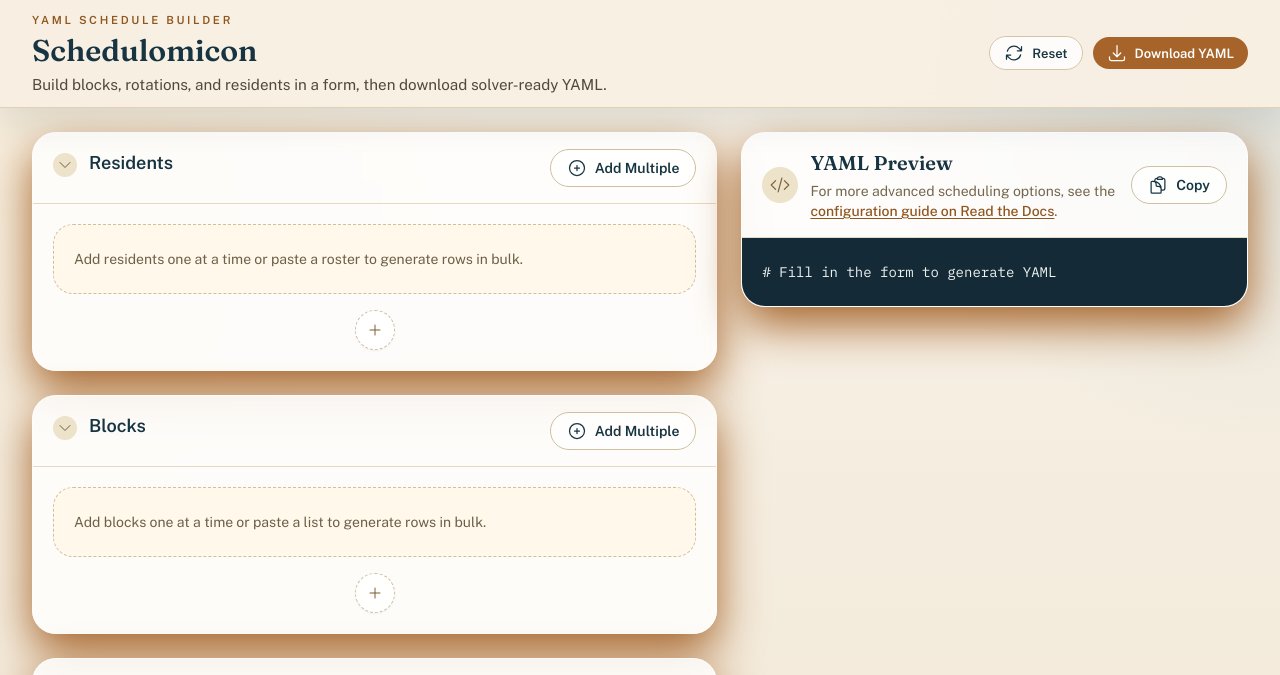
Test: App validation UI › shows the advanced docs link only when the YAML preview is clean
The image size is (1280, 675).
Check: the element "YAML Preview" is shown, box [741,132,1248,307]
Click the button named "add block": (375, 593) [355,573,395,613]
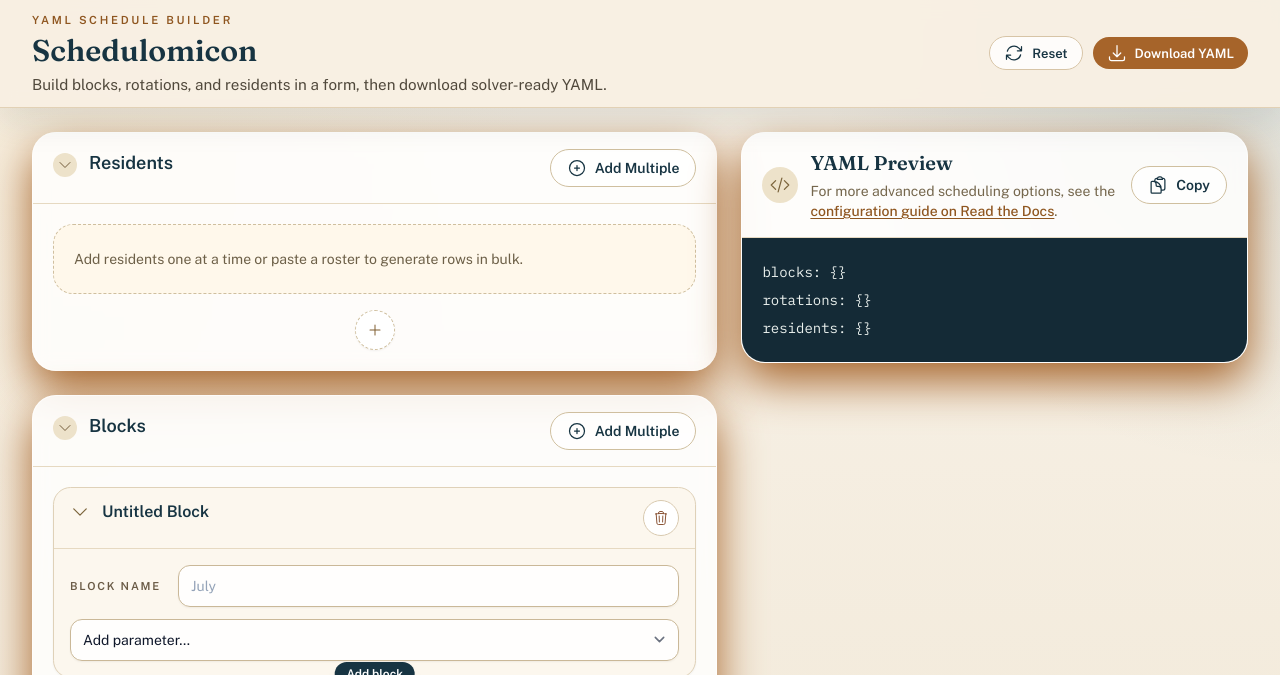
Select "Groups" in the dropdown: (375, 640) [70,619,679,661]
(page scrolled)
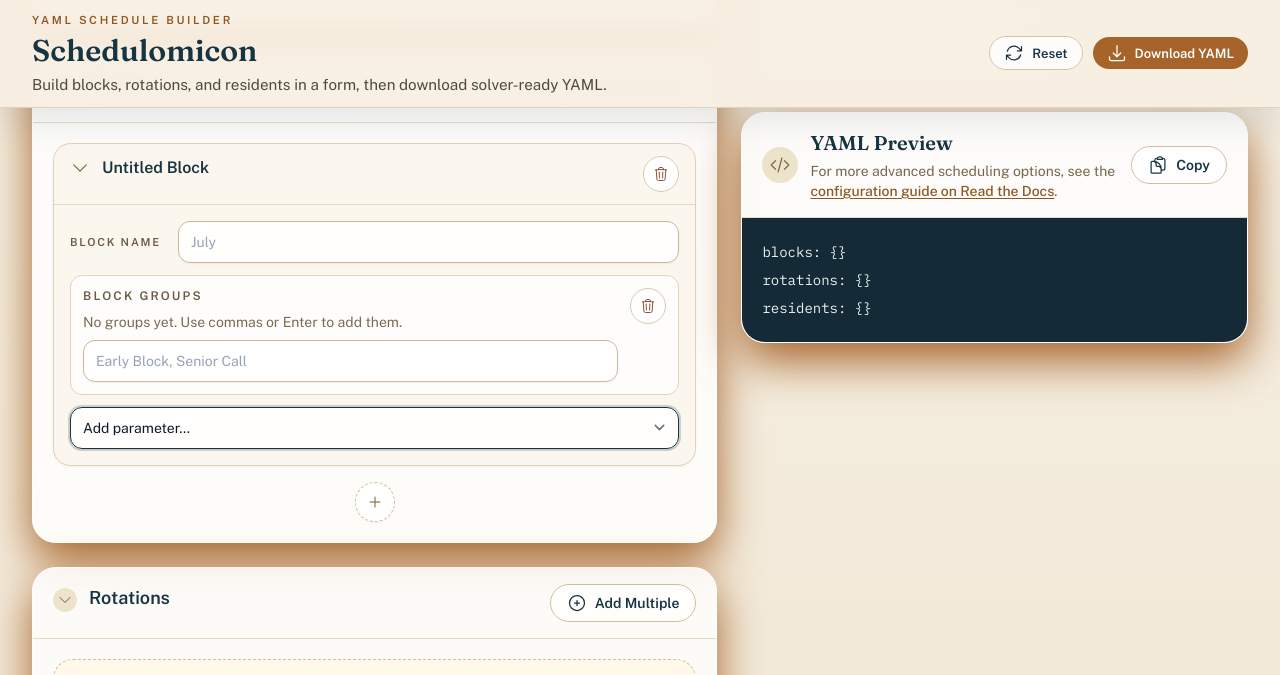
In the field with placeholder "Early Block, Senior Call": (351, 361) [83,340,618,382], type "sr"
Then press Enter
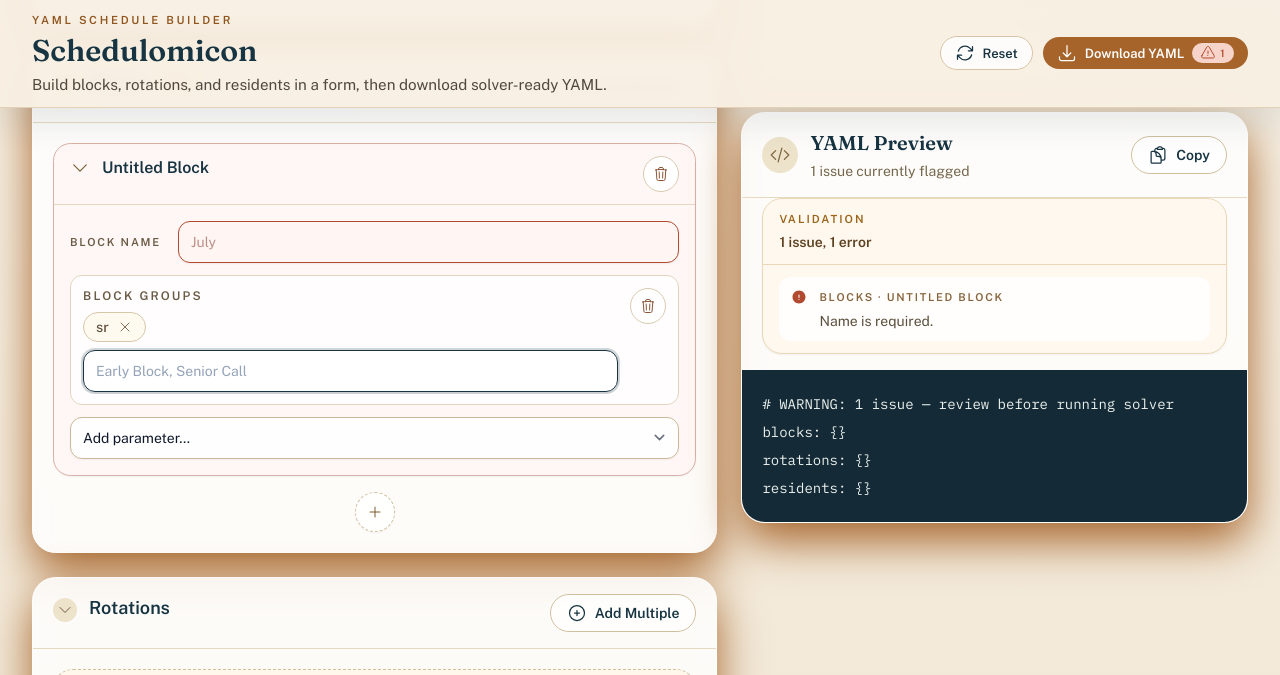
Check: the text "1 issue currently flagged" is shown, box [810,161,970,181]
Check: the link "configuration guide on Read the Docs" is gone
